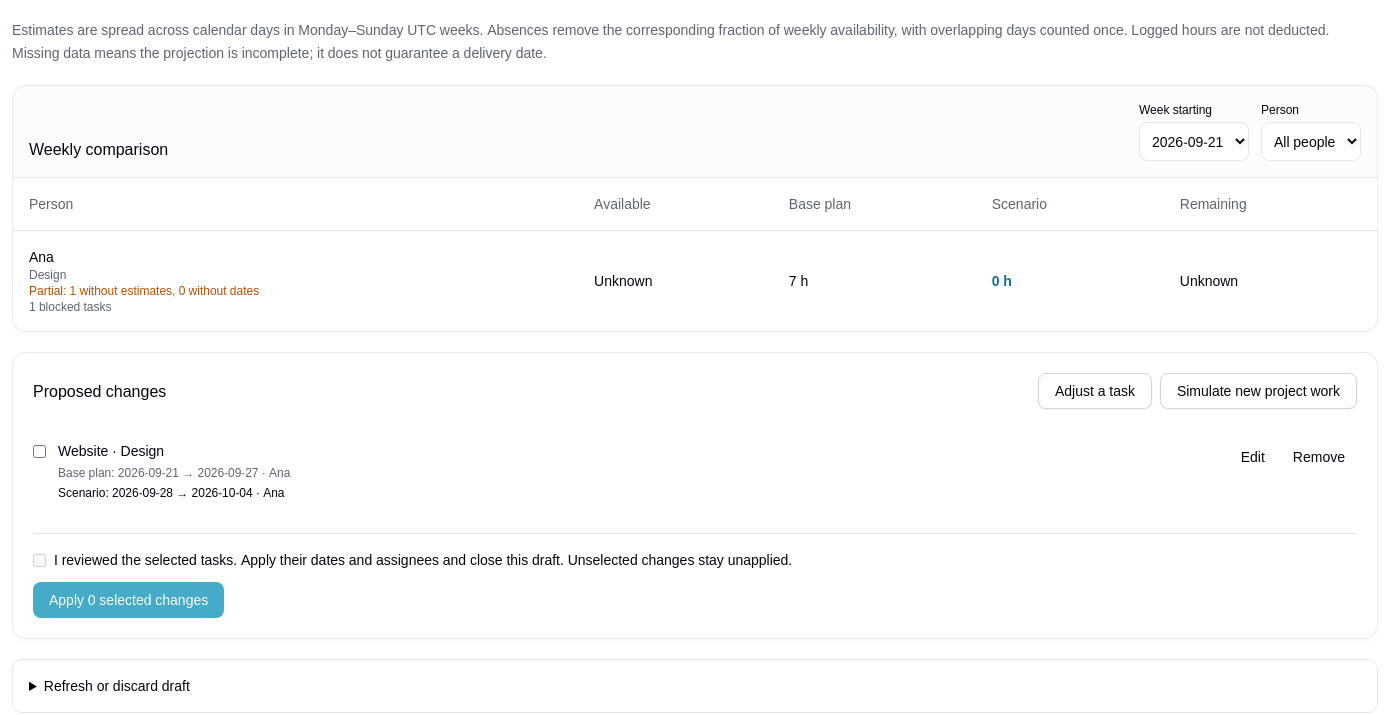
Test: an application conflict is visible without retry or success feedback
Click the checkbox named "Apply change to Design". click: coordinates (40, 451)
box: [33, 444, 46, 458]
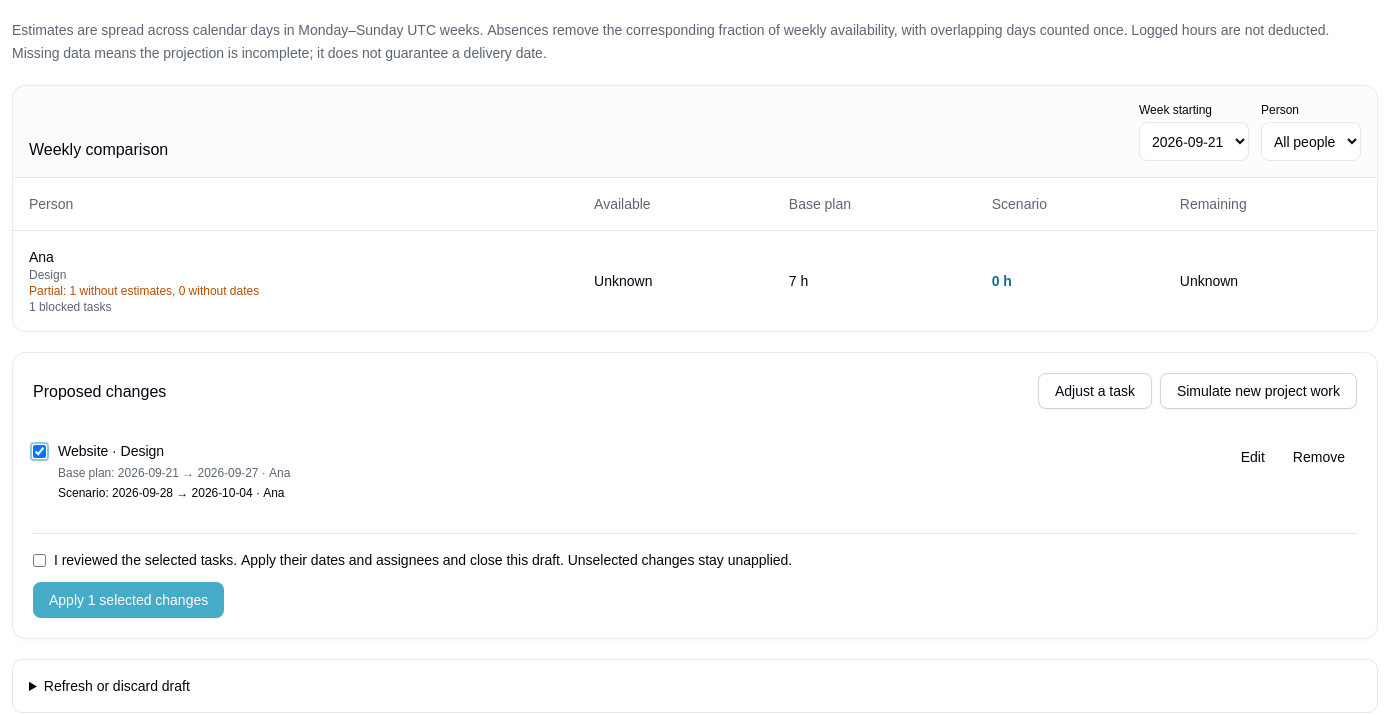
Click the checkbox named "I reviewed the selected tasks. Apply their dates and assignees and close this draft. Unselected changes stay unapplied.". click: coordinates (40, 560)
box: [33, 554, 46, 566]
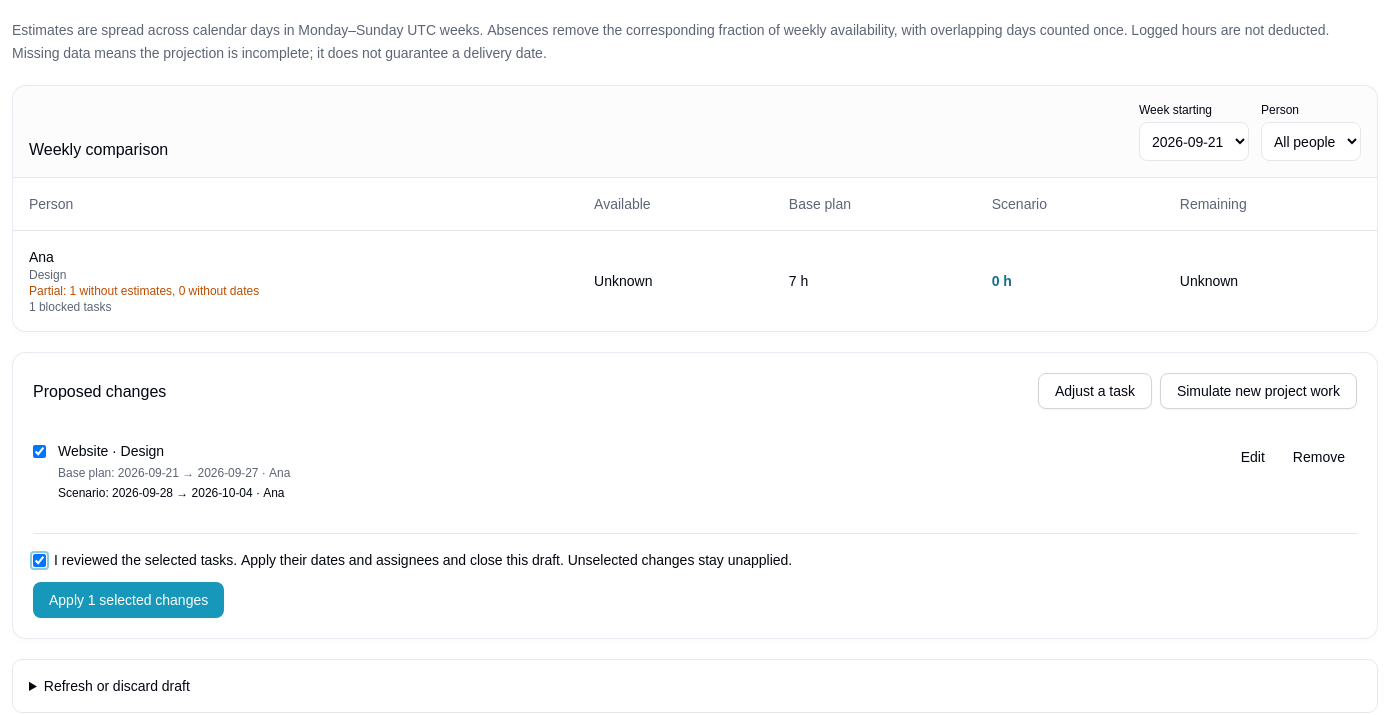
Click the button "Apply 1 selected changes". click: coordinates (129, 600)
box: [33, 582, 224, 618]
(page scrolled)
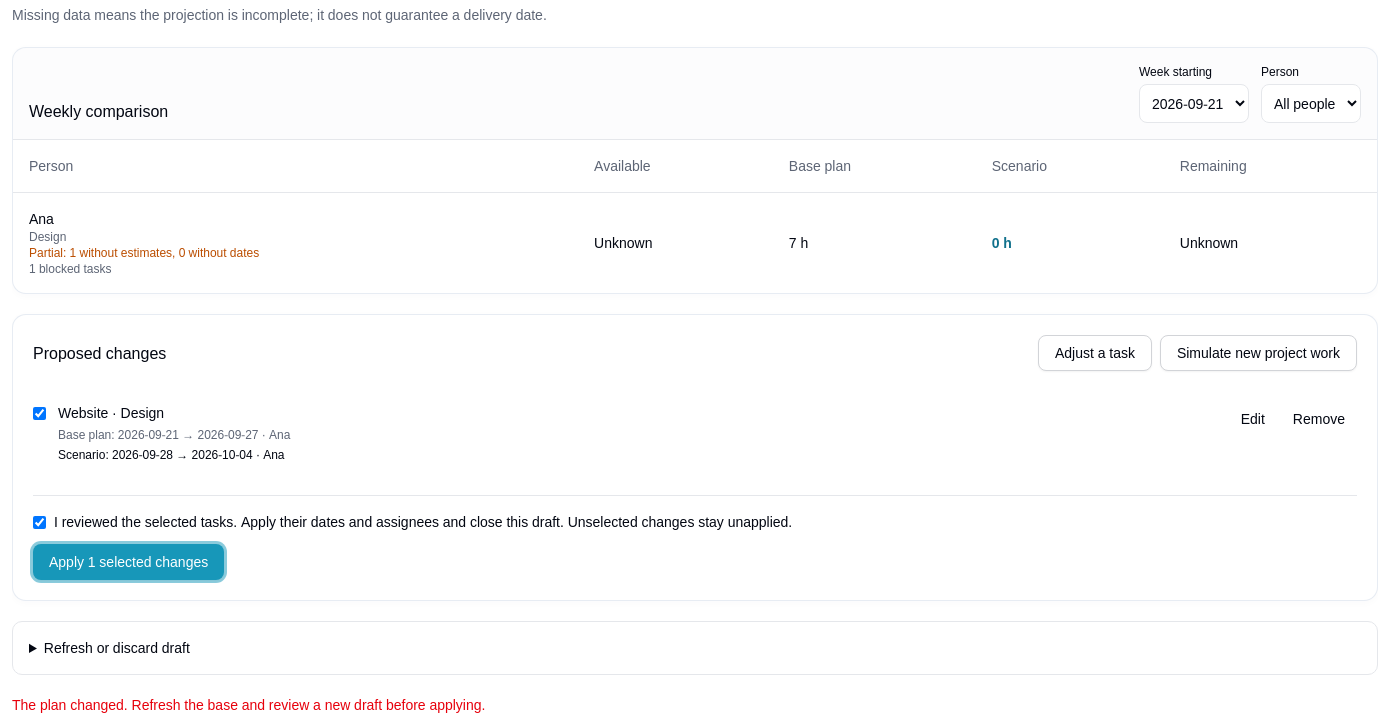
Expected: the message reads "The plan changed. Refresh the base and review a new draft before applying.", [12, 694, 485, 714]
